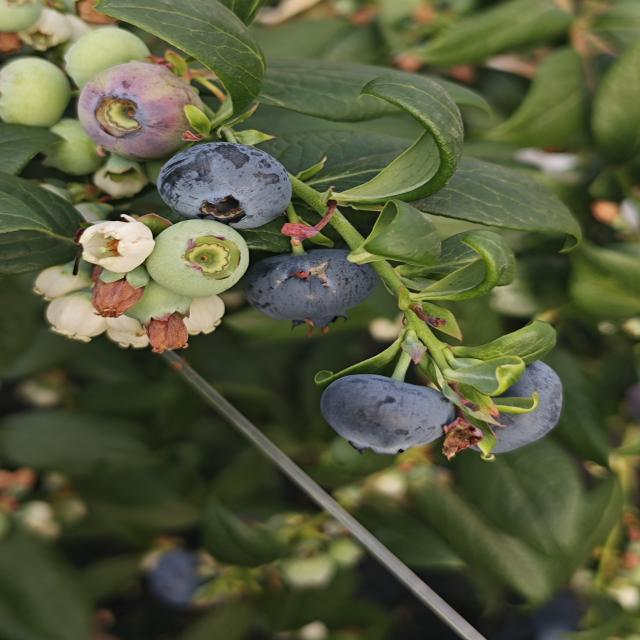ripe: (135, 138, 305, 230), (236, 245, 386, 332), (316, 370, 452, 455), (460, 354, 572, 457), (139, 545, 241, 611)
